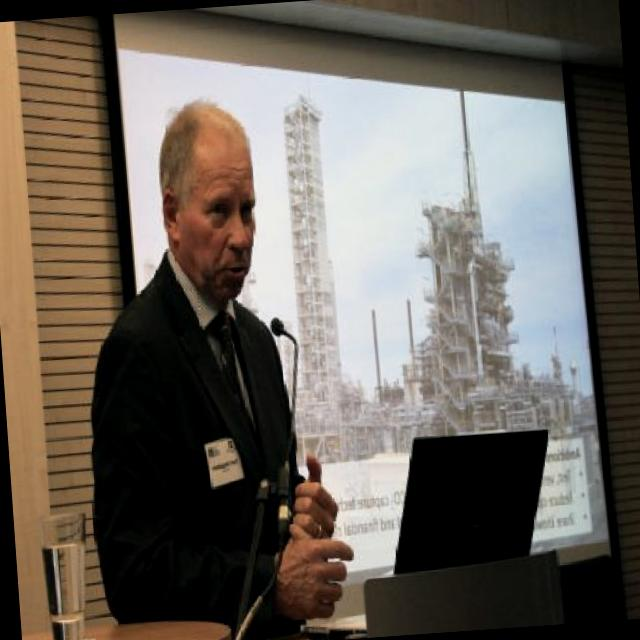Person: (64, 91, 360, 640)
